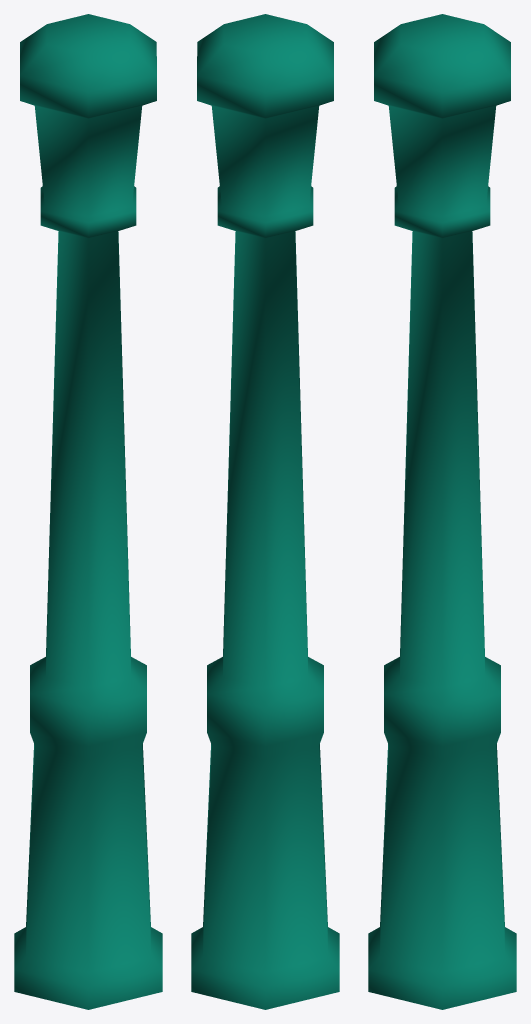
File: street lamp.obj
3 views of the same model, side by side, from view 1: azimuth 30°, elevation 25°; view 2: azimuth 150°, elevation 25°; view 3: azimuth 270°, elevation 25° (orthographic).
Parts seen in each view (by area): view 1: Cylinder003; view 2: Cylinder003; view 3: Cylinder003.
Boxes of the visible parts, x1=… form: Cylinder003: x1=14, y1=14, x2=162, y2=1009; Cylinder003: x1=191, y1=14, x2=339, y2=1009; Cylinder003: x1=368, y1=14, x2=516, y2=1009.
Bounding box in the file's own units: 7.94 × 48.11 × 6.87.
